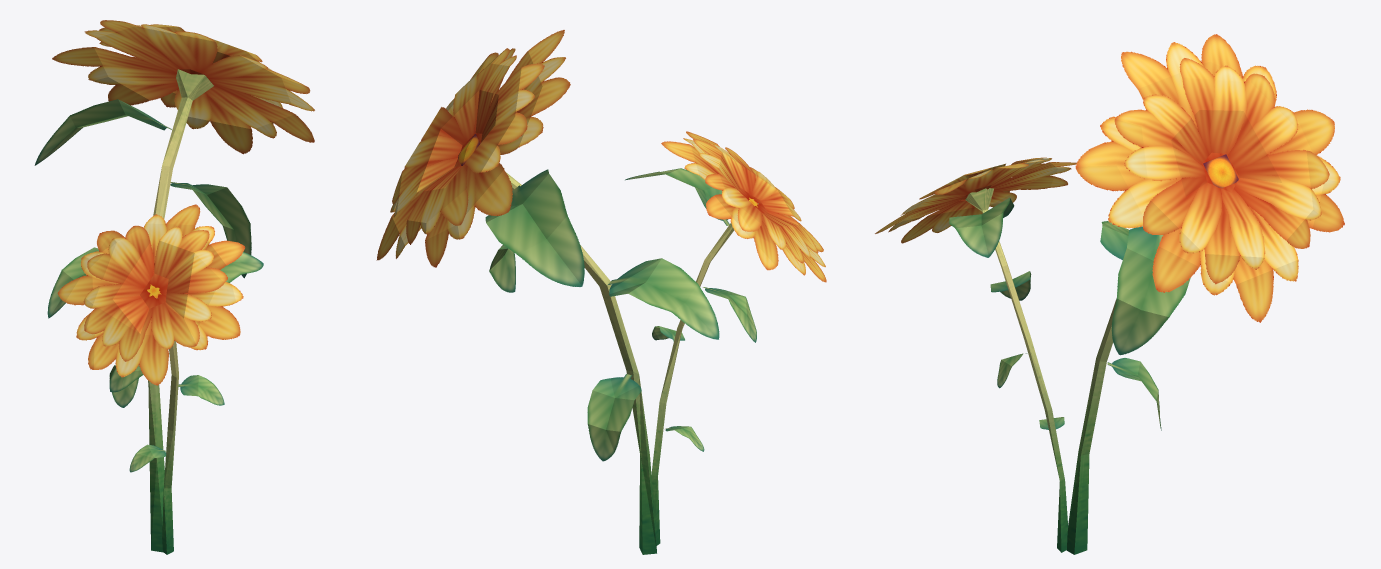
The model's file is VEG0310014.fbx.
3 views of the same model, side by side, from view 1: azimuth 30°, elevation 25°; view 2: azimuth 150°, elevation 25°; view 3: azimuth 270°, elevation 25° (orthographic). The views are drawn at different scales.
Visible parts, largest first — view 1: smVEG0310014; view 2: smVEG0310014; view 3: smVEG0310014.
Part boxes in pixels (x1,y1,x2,y2): smVEG0310014: [34, 20, 314, 554]; smVEG0310014: [376, 30, 826, 554]; smVEG0310014: [875, 34, 1344, 554].
Size of the model in its own units: 26.73 by 38.74 by 32.67.
Materials: 1 (1 with a texture image).
